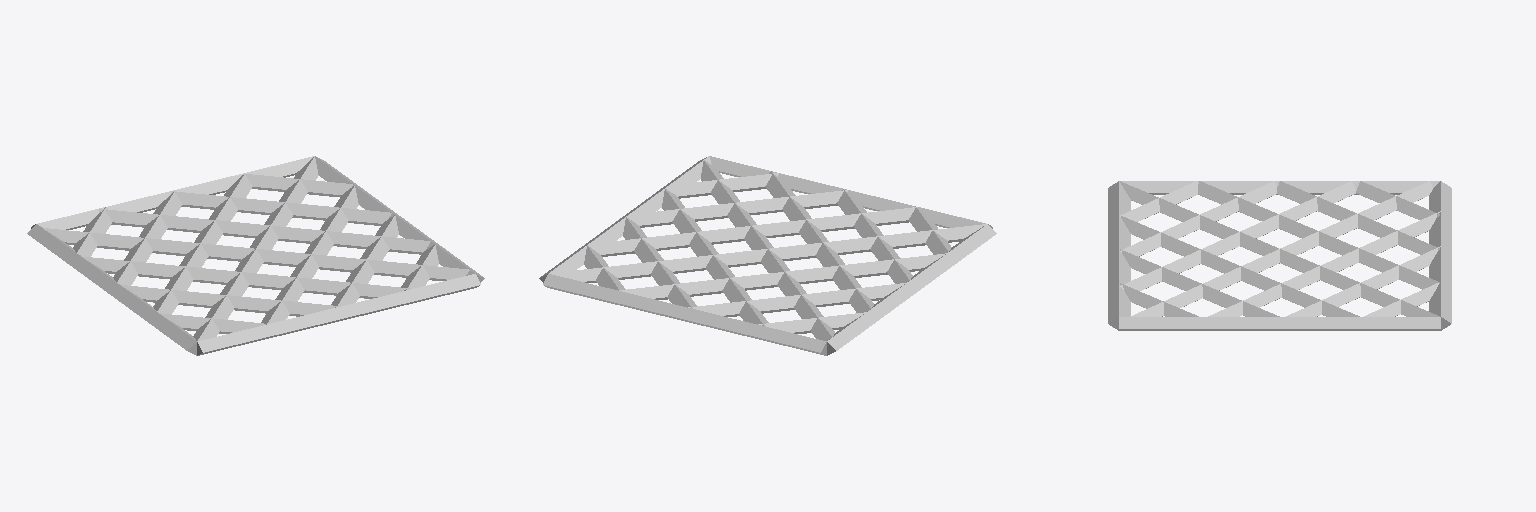
The model's file is drain platform.obj.
3 renders of one model, left to right at view 1: azimuth 30°, elevation 25°; view 2: azimuth 150°, elevation 25°; view 3: azimuth 270°, elevation 25°, orthographic.
Visible parts, largest first — view 1: Cube.001_Cube.016; view 2: Cube.001_Cube.016; view 3: Cube.001_Cube.016.
Boxes of the visible parts, x1,y1,x2,y2 form: Cube.001_Cube.016: [27, 156, 484, 355]; Cube.001_Cube.016: [539, 156, 996, 355]; Cube.001_Cube.016: [1108, 181, 1451, 330].
Bounding box in the file's own units: 2.14 × 0.1 × 2.14.